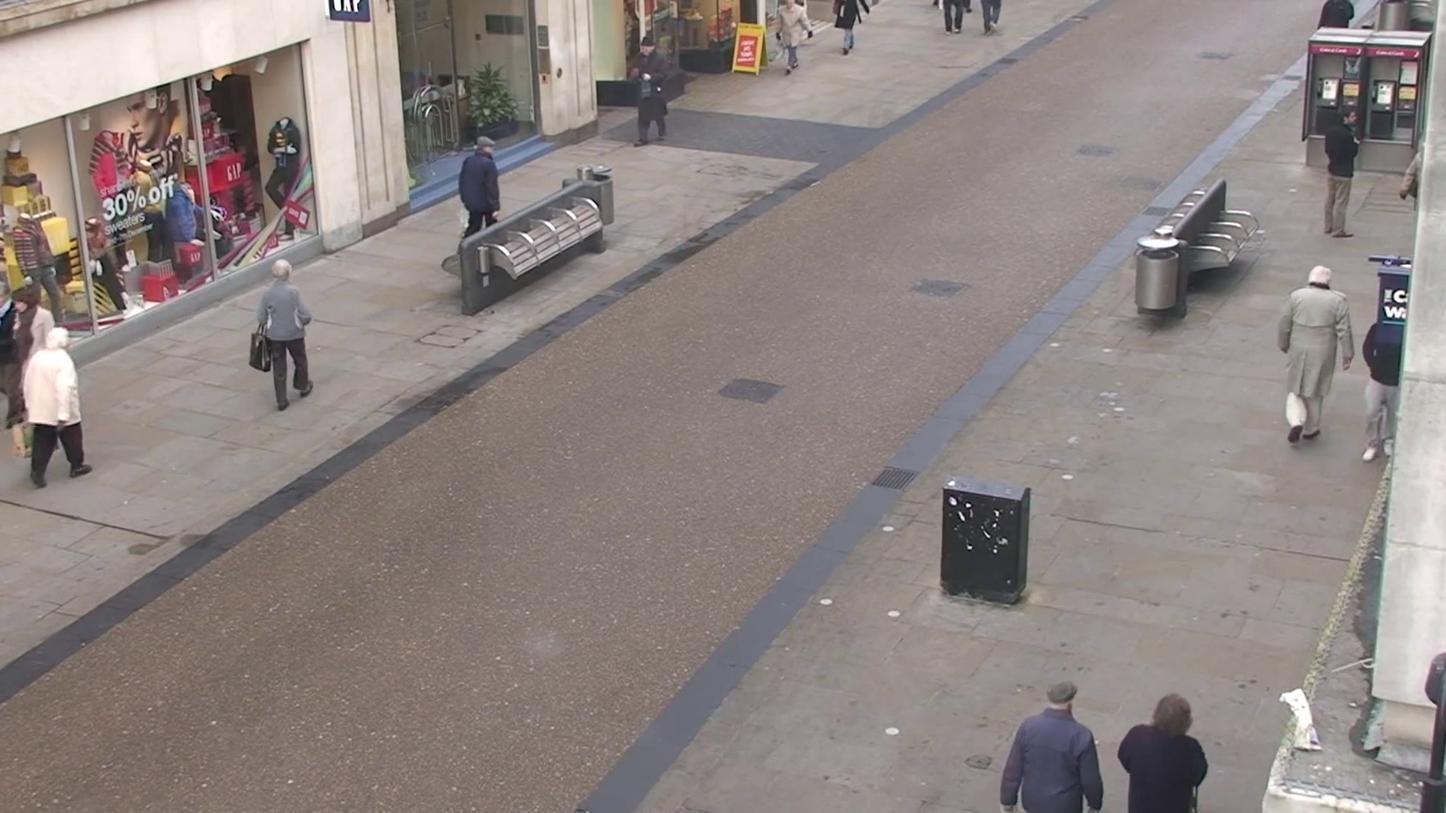person: (999, 681, 1105, 813), (1280, 263, 1354, 446), (18, 318, 93, 489), (1117, 693, 1210, 813), (252, 256, 313, 410), (1359, 263, 1404, 463), (458, 133, 504, 260), (1322, 111, 1362, 239), (633, 47, 668, 146), (834, 0, 860, 56)
